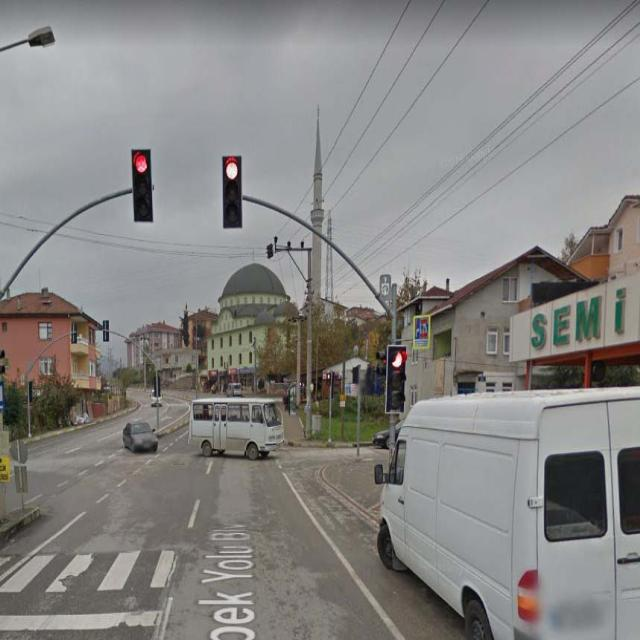kirmizi: (131, 149, 152, 214), (223, 158, 242, 226), (387, 348, 404, 413)
